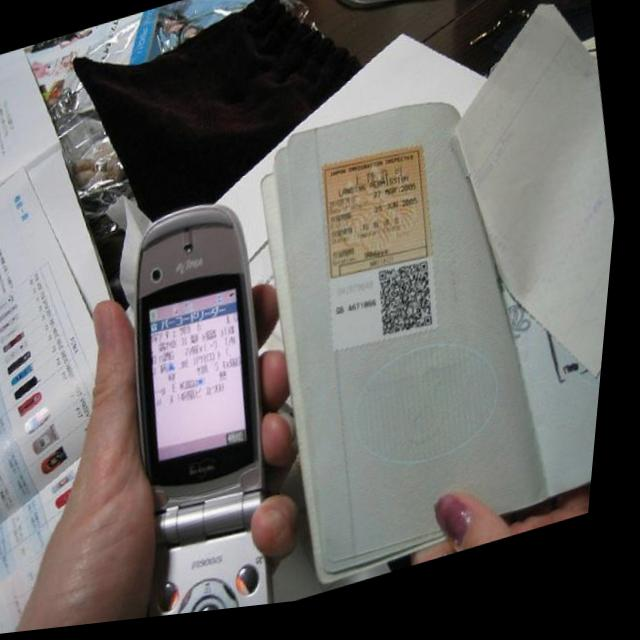qrcode: (378, 269, 445, 350)
